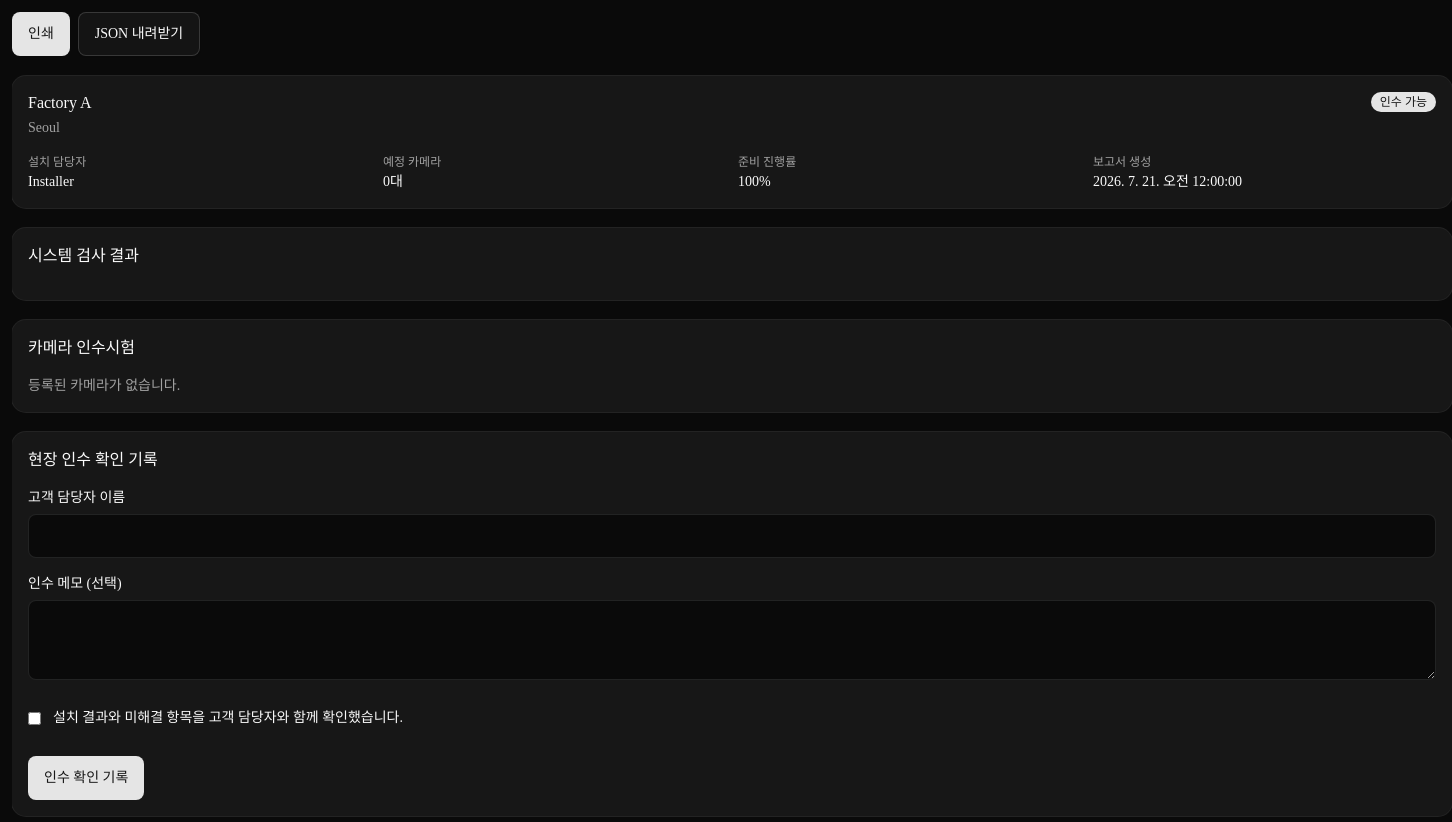
it: HandoffReport › records a named customer acceptance against the report revision
The image size is (1452, 822).
In the field labelled "고객 담당자 이름": (732, 536) [28,514,1436,558], type "Customer Manager"
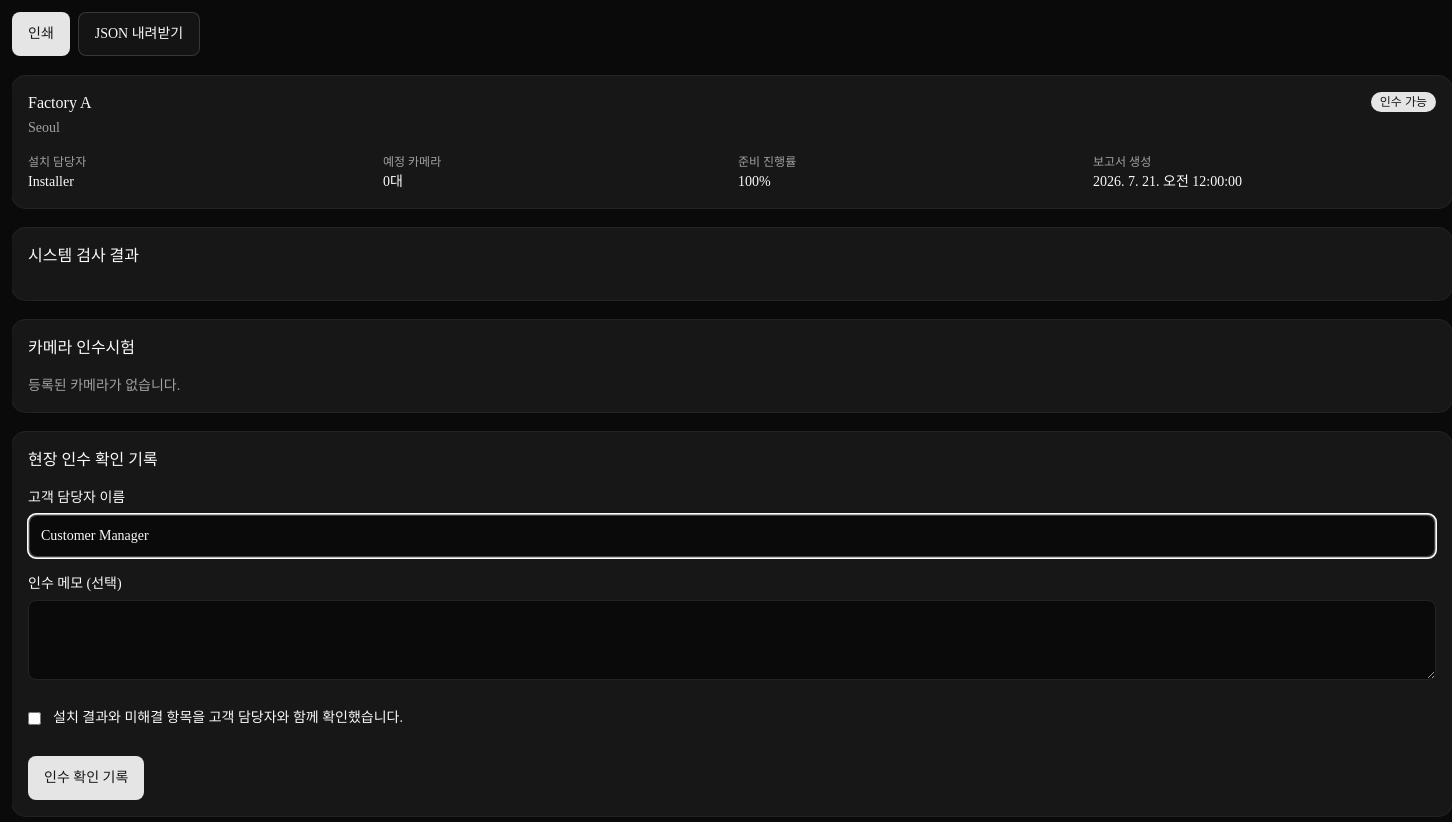
In the text box labelled "인수 메모 (선택)": (732, 640) [28,600,1436,680], type "Reviewed"
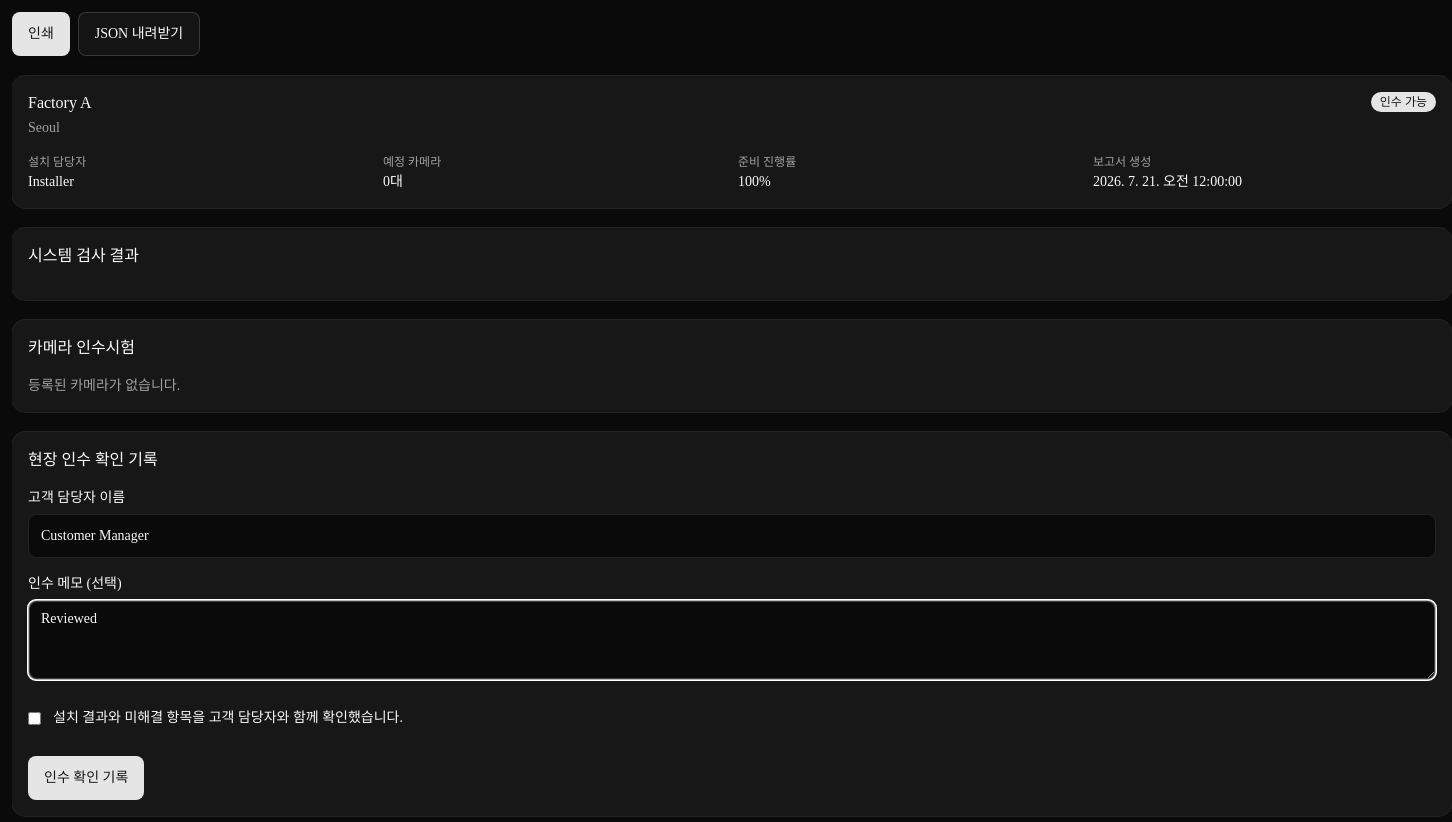
Click the checkbox labelled "설치 결과와 미해결 항목을 고객 담당자와 함께 확인했습니다.": (34, 718) [28,712,41,724]
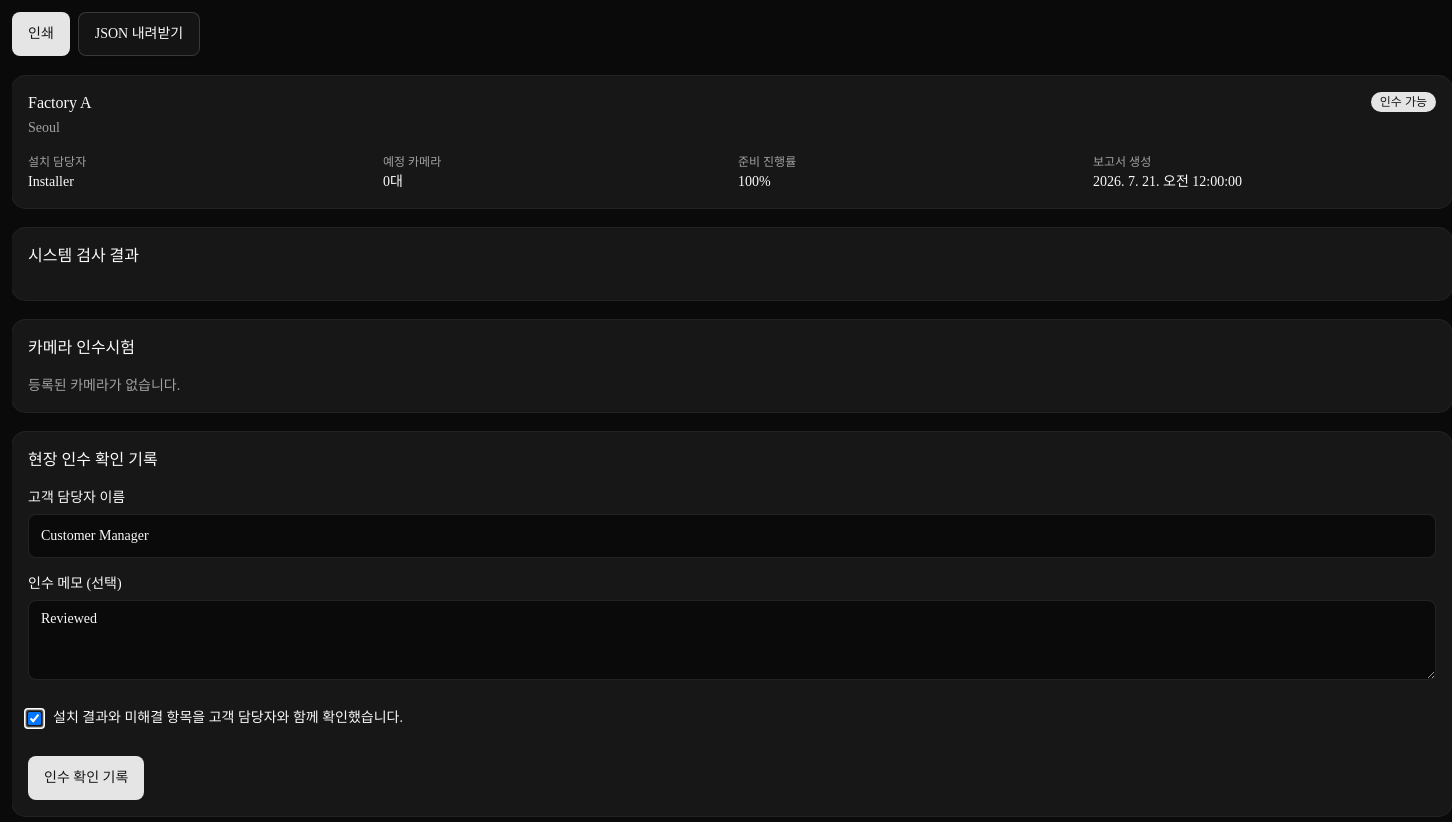
Click the button "인수 확인 기록": (86, 778) [28,756,144,800]
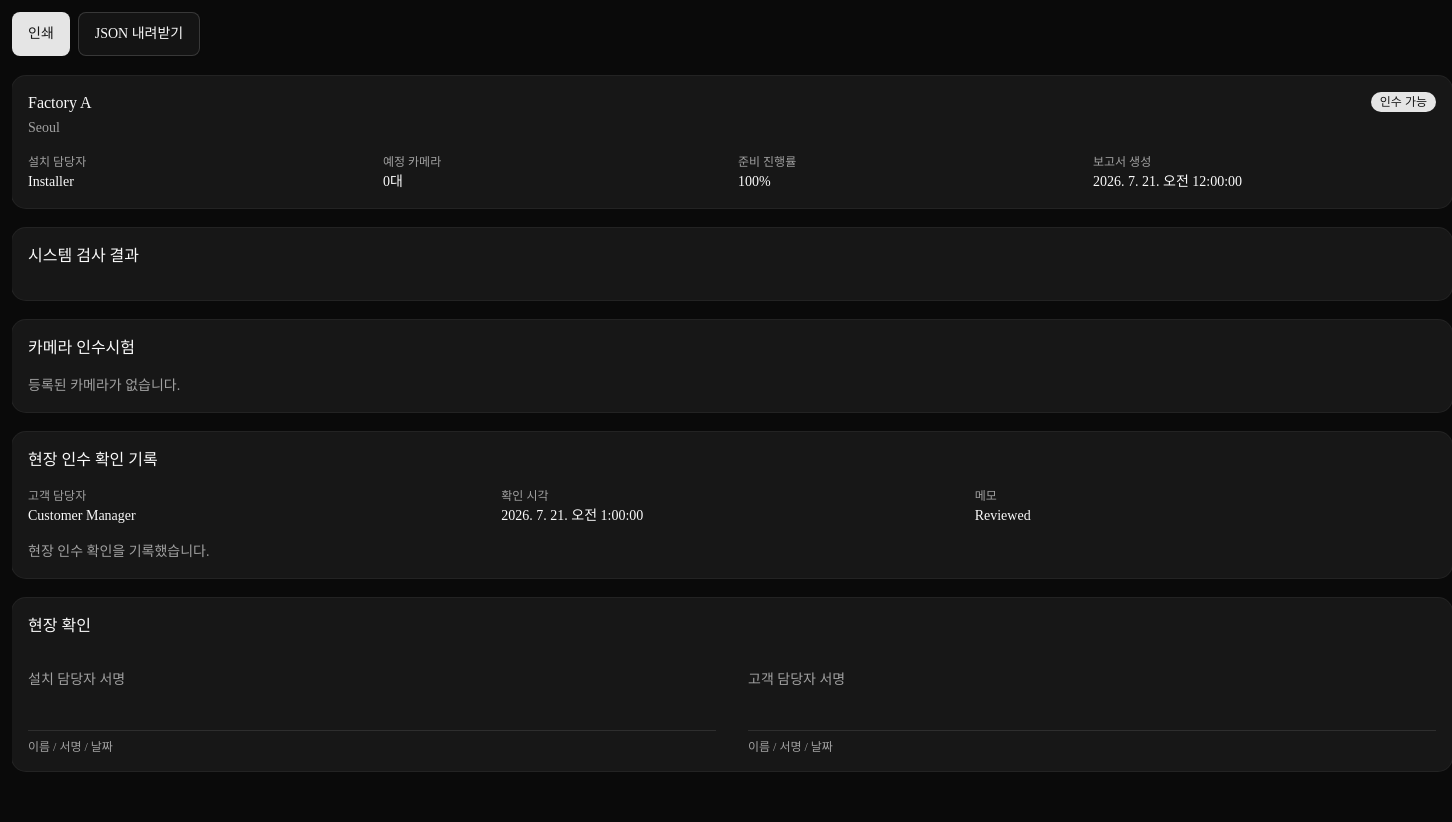
Result: the text "현장 인수 확인을 기록했습니다." is shown at [28,544,210,559]
Result: the text "Customer Manager" is shown at [28,508,136,523]
